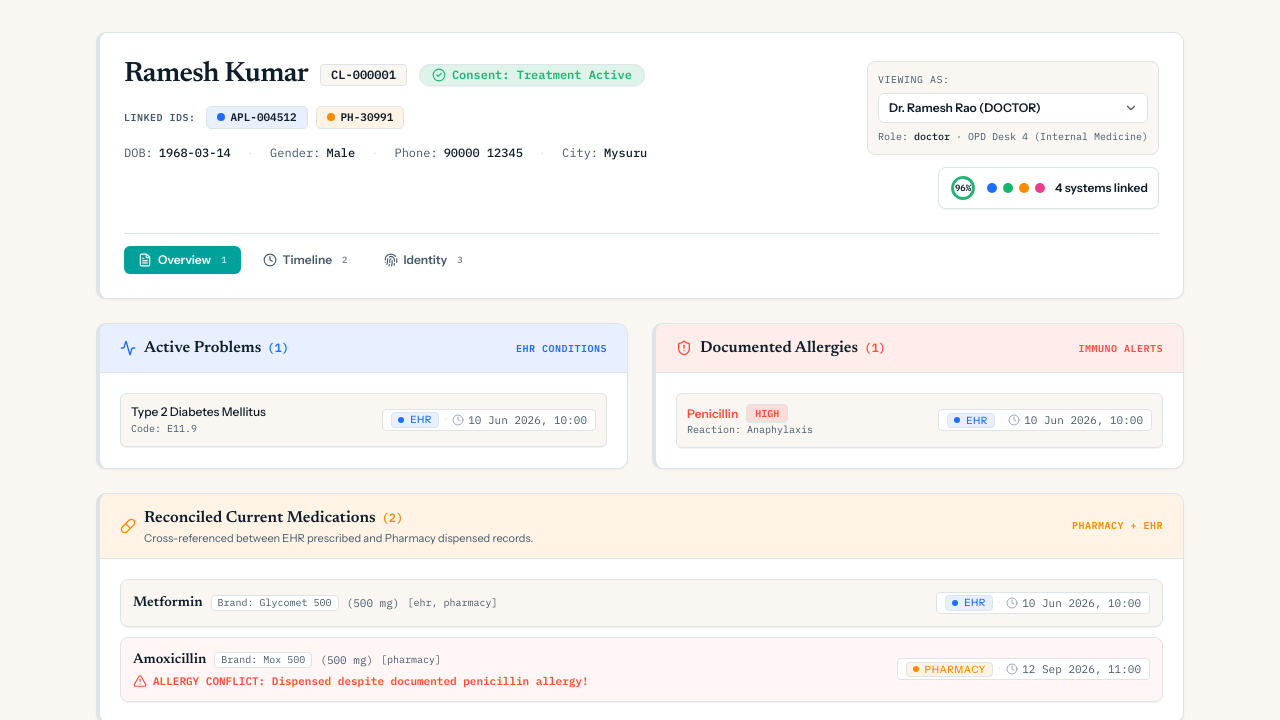
Test: PatientDetailPage › renders Timeline tab with filtered list and chips
Click the button with test id "tab-timeline" at (305, 260), box [249, 246, 362, 274]
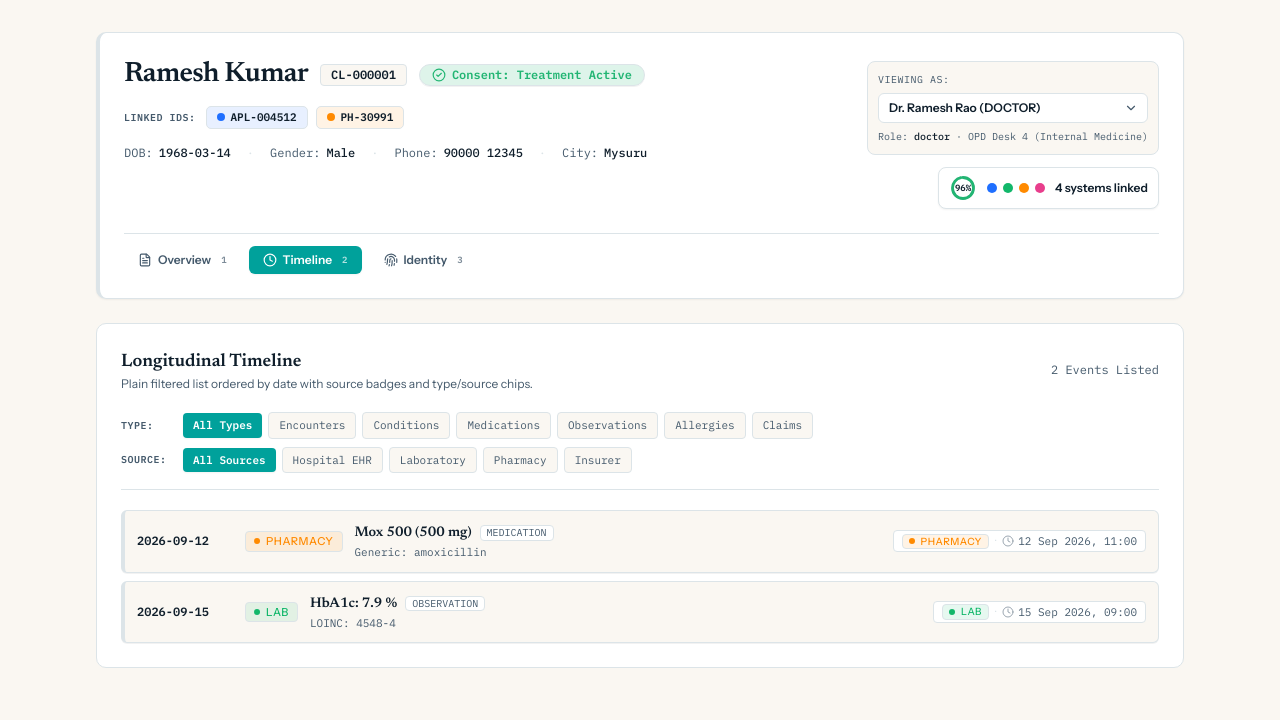
Expected: the element with test id "tab-timeline-content" is shown, [96, 323, 1184, 668]
Expected: the button with test id "filter-type-all" is shown, [183, 413, 262, 438]
Expected: the button with test id "filter-source-all" is shown, [183, 448, 276, 472]
